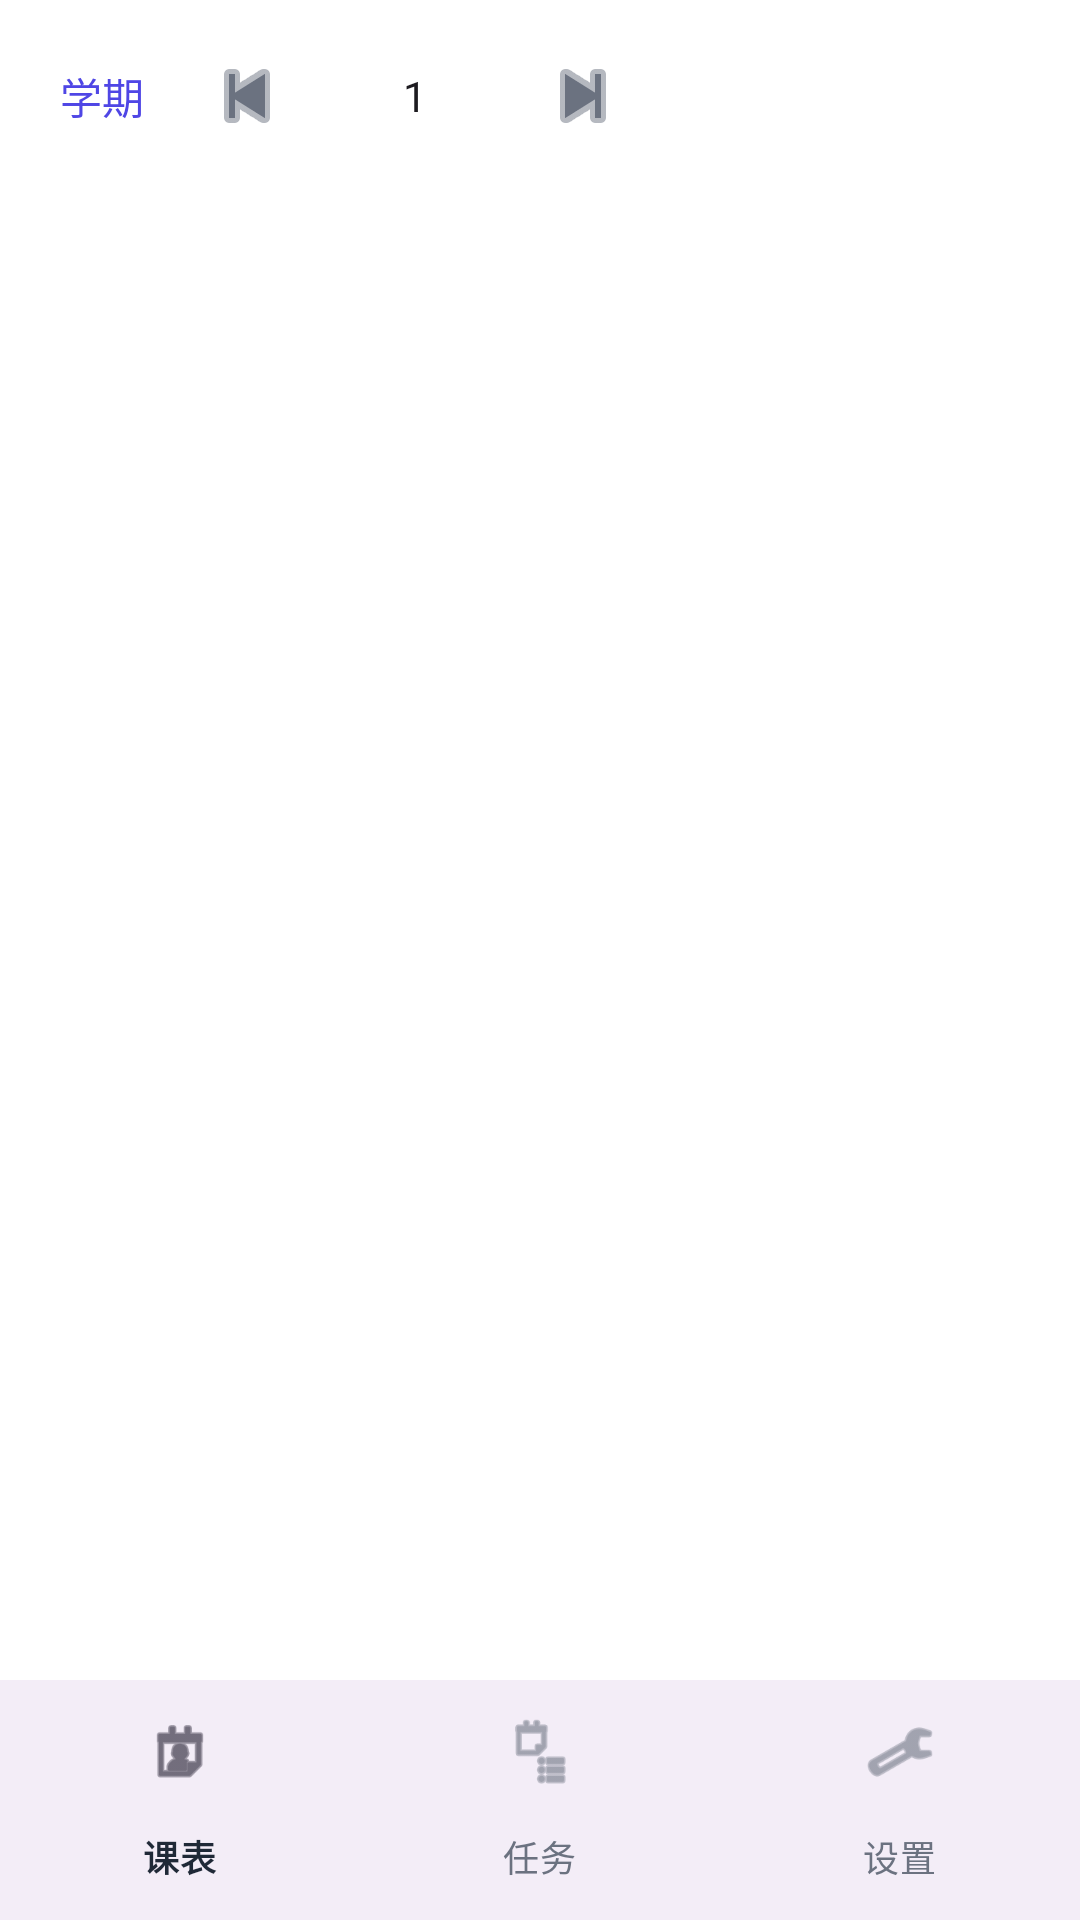

Named icons in this screenshot (1080w x 1920h) and their bounding boxes, region(x1, y1, x2, y2):
上一周: region(224, 69, 270, 123)
下一周: region(560, 69, 606, 123)
